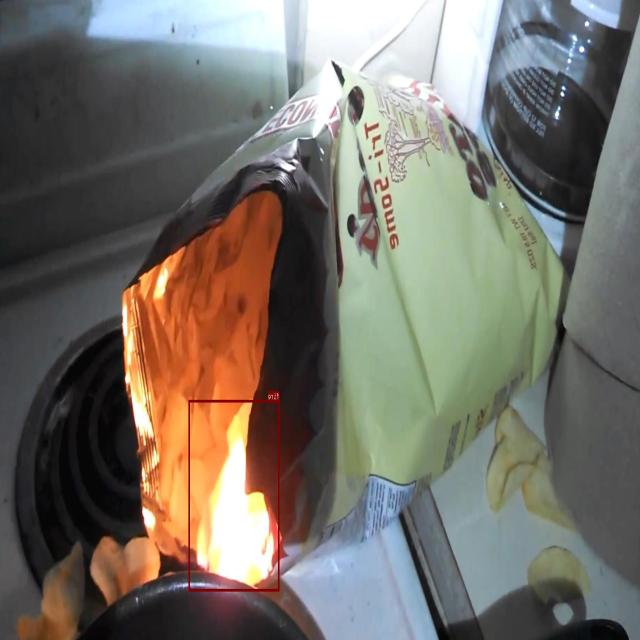fire: (189, 400, 280, 590)
